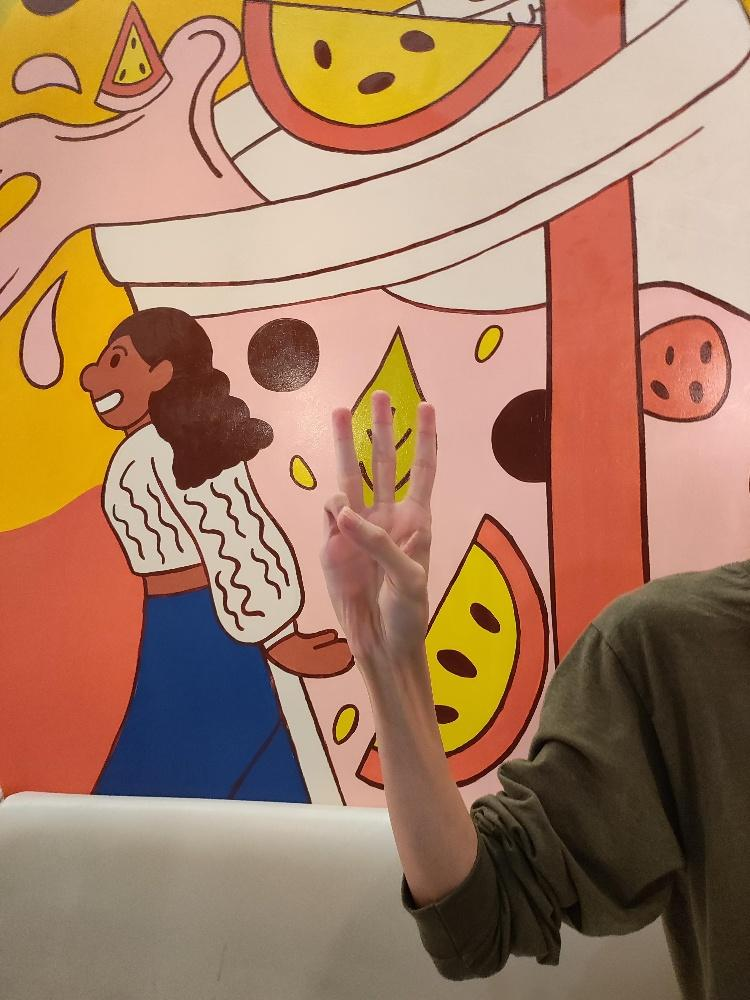w: (315, 384, 440, 662)
